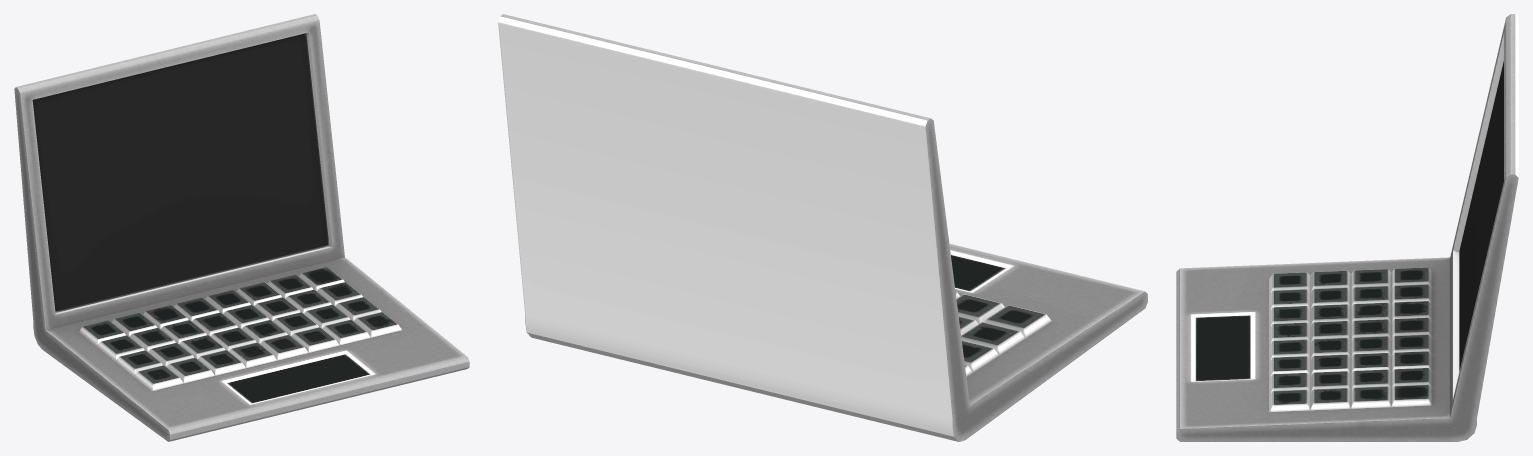
Rendered from laptop.glb.
The picture shows the model from 3 angles, left to right: view 1: azimuth 30°, elevation 25°; view 2: azimuth 150°, elevation 25°; view 3: azimuth 270°, elevation 25°; orthographic projection. The views are drawn at different scales.
Visible parts, largest first — view 1: Object_2; view 2: Object_2; view 3: Object_2.
Part boxes in pixels (box(x1,y1,x2,y2)): Object_2: box(14, 14, 469, 441); Object_2: box(498, 14, 1147, 441); Object_2: box(1176, 14, 1518, 441).
Size of the model in its own units: 121 by 94.2 by 109.
Materials: 1 (1 with a texture image).
